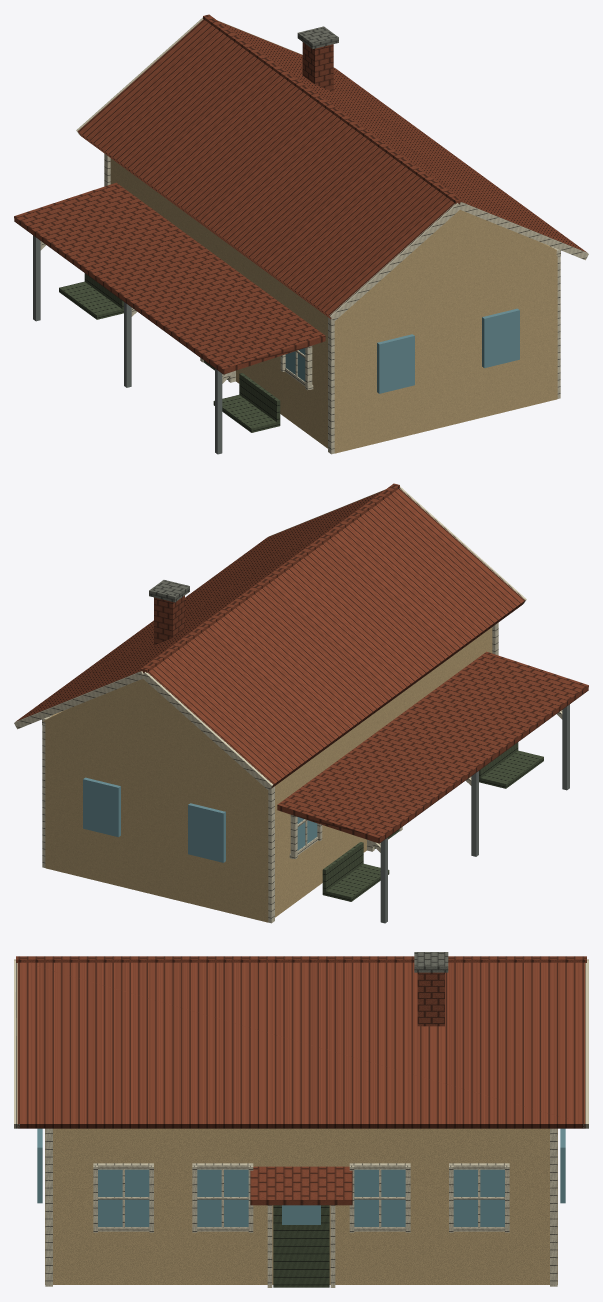
Rendered from arizona-station-interwar_lod0.glb.
3 renders of one model, top to bottom at view 1: azimuth 30°, elevation 25°; view 2: azimuth 150°, elevation 25°; view 3: azimuth 270°, elevation 25°, orthographic. The views are drawn at different scales.
Visible parts, largest first — view 1: RF_Station_Roof-1, RF_Station_Body, RF_Station_Canopy, RF_Station_Roof1, RF_Station_Gable.001, RF_Station_Ridge, RF_Station_EndWindow.001, RF_Station_EndWindow.002, RF_Station_Vergeband.001, RF_Station_Bench, RF_Station_Chimney, RF_Station_Bench.001 (+8 smaller); view 2: RF_Station_Roof-1, RF_Station_Body, RF_Station_Canopy, RF_Station_Roof1, RF_Station_Gable, RF_Station_Ridge, RF_Station_EndWindow.003, RF_Station_EndWindow, RF_Station_Vergeband.002, RF_Station_Bench.001, RF_Station_Chimney, RF_Station_Bench (+8 smaller); view 3: RF_Station_Roof1, RF_Station_Body, RF_Station_PublicAwning, RF_Station_Door, RF_Station_Ridge, RF_Station_Window.006, RF_Station_Window.007, RF_Station_Window.005, RF_Station_Window, RF_Station_Chimney, RF_Station_Corner.003, RF_Station_Corner (+8 smaller).
Part boxes in pixels (x1,y1,x2,y2): RF_Station_Roof-1: (78, 19, 454, 318); RF_Station_Body: (110, 158, 557, 453); RF_Station_Canopy: (14, 182, 325, 374); RF_Station_Roof1: (218, 21, 586, 252); RF_Station_Gable.001: (360, 210, 556, 298); RF_Station_Ridge: (203, 14, 462, 204); RF_Station_EndWindow.001: (377, 334, 414, 393); RF_Station_EndWindow.002: (482, 308, 519, 368); RF_Station_Vergeband.001: (329, 203, 461, 321); RF_Station_Bench: (59, 281, 123, 319); RF_Station_Chimney: (302, 42, 333, 91); RF_Station_Bench.001: (213, 395, 280, 432); RF_Station_Roof-1: (148, 488, 524, 787); RF_Station_Body: (45, 627, 492, 922); RF_Station_Canopy: (277, 651, 588, 843); RF_Station_Roof1: (16, 490, 384, 721); RF_Station_Gable: (43, 679, 246, 771); RF_Station_Ridge: (140, 483, 399, 673); RF_Station_EndWindow.003: (188, 803, 225, 862); RF_Station_EndWindow: (83, 777, 120, 837); RF_Station_Vergeband.002: (141, 672, 273, 790); RF_Station_Bench.001: (479, 750, 543, 788); RF_Station_Chimney: (154, 595, 184, 645); RF_Station_Bench: (322, 864, 389, 901); RF_Station_Roof1: (17, 962, 585, 1128); RF_Station_Body: (45, 1128, 557, 1284); RF_Station_PublicAwning: (250, 1166, 352, 1205); RF_Station_Door: (273, 1205, 329, 1287); RF_Station_Ridge: (16, 956, 586, 962); RF_Station_Window.006: (197, 1169, 248, 1226); RF_Station_Window.007: (354, 1169, 405, 1226); RF_Station_Window.005: (98, 1169, 149, 1226); RF_Station_Window: (453, 1169, 504, 1226); RF_Station_Chimney: (417, 972, 444, 1026); RF_Station_Corner.003: (45, 1128, 52, 1286); RF_Station_Corner: (550, 1128, 557, 1286).
Size of the model in its own units: 14.23 by 9.3 by 16.82.
8 materials, 6 textured.
